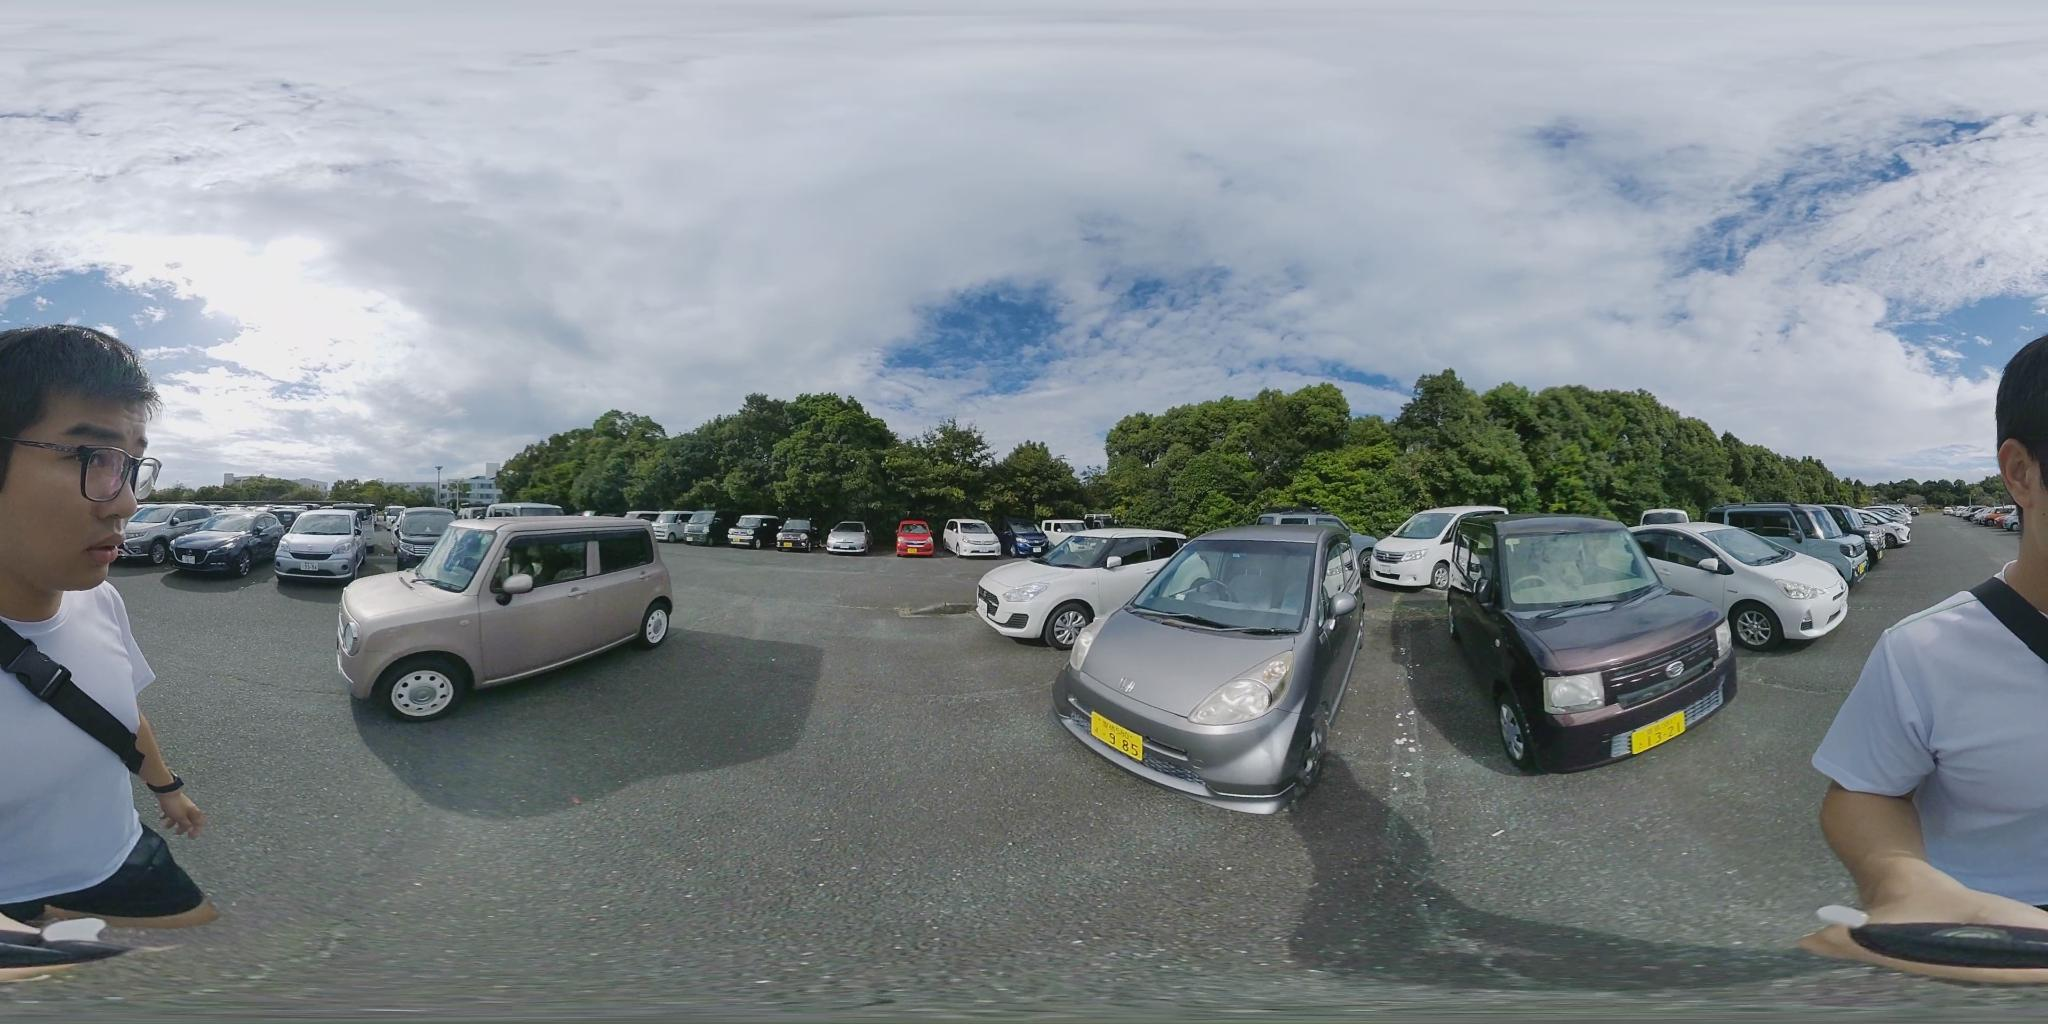car: (1048, 519, 1374, 805), (1404, 512, 1738, 768), (338, 512, 671, 704), (1629, 524, 1859, 652), (965, 530, 1196, 649), (1707, 502, 1876, 585), (1364, 507, 1514, 590), (165, 509, 287, 576), (270, 508, 380, 577), (124, 508, 225, 562), (388, 505, 457, 563), (1848, 508, 1913, 550), (726, 516, 780, 549), (486, 500, 569, 520), (828, 521, 872, 556), (776, 519, 820, 552), (1958, 504, 2021, 528), (673, 515, 724, 543), (896, 520, 934, 558)
